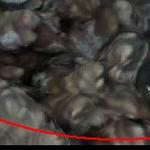alive: (17, 2, 148, 136)
